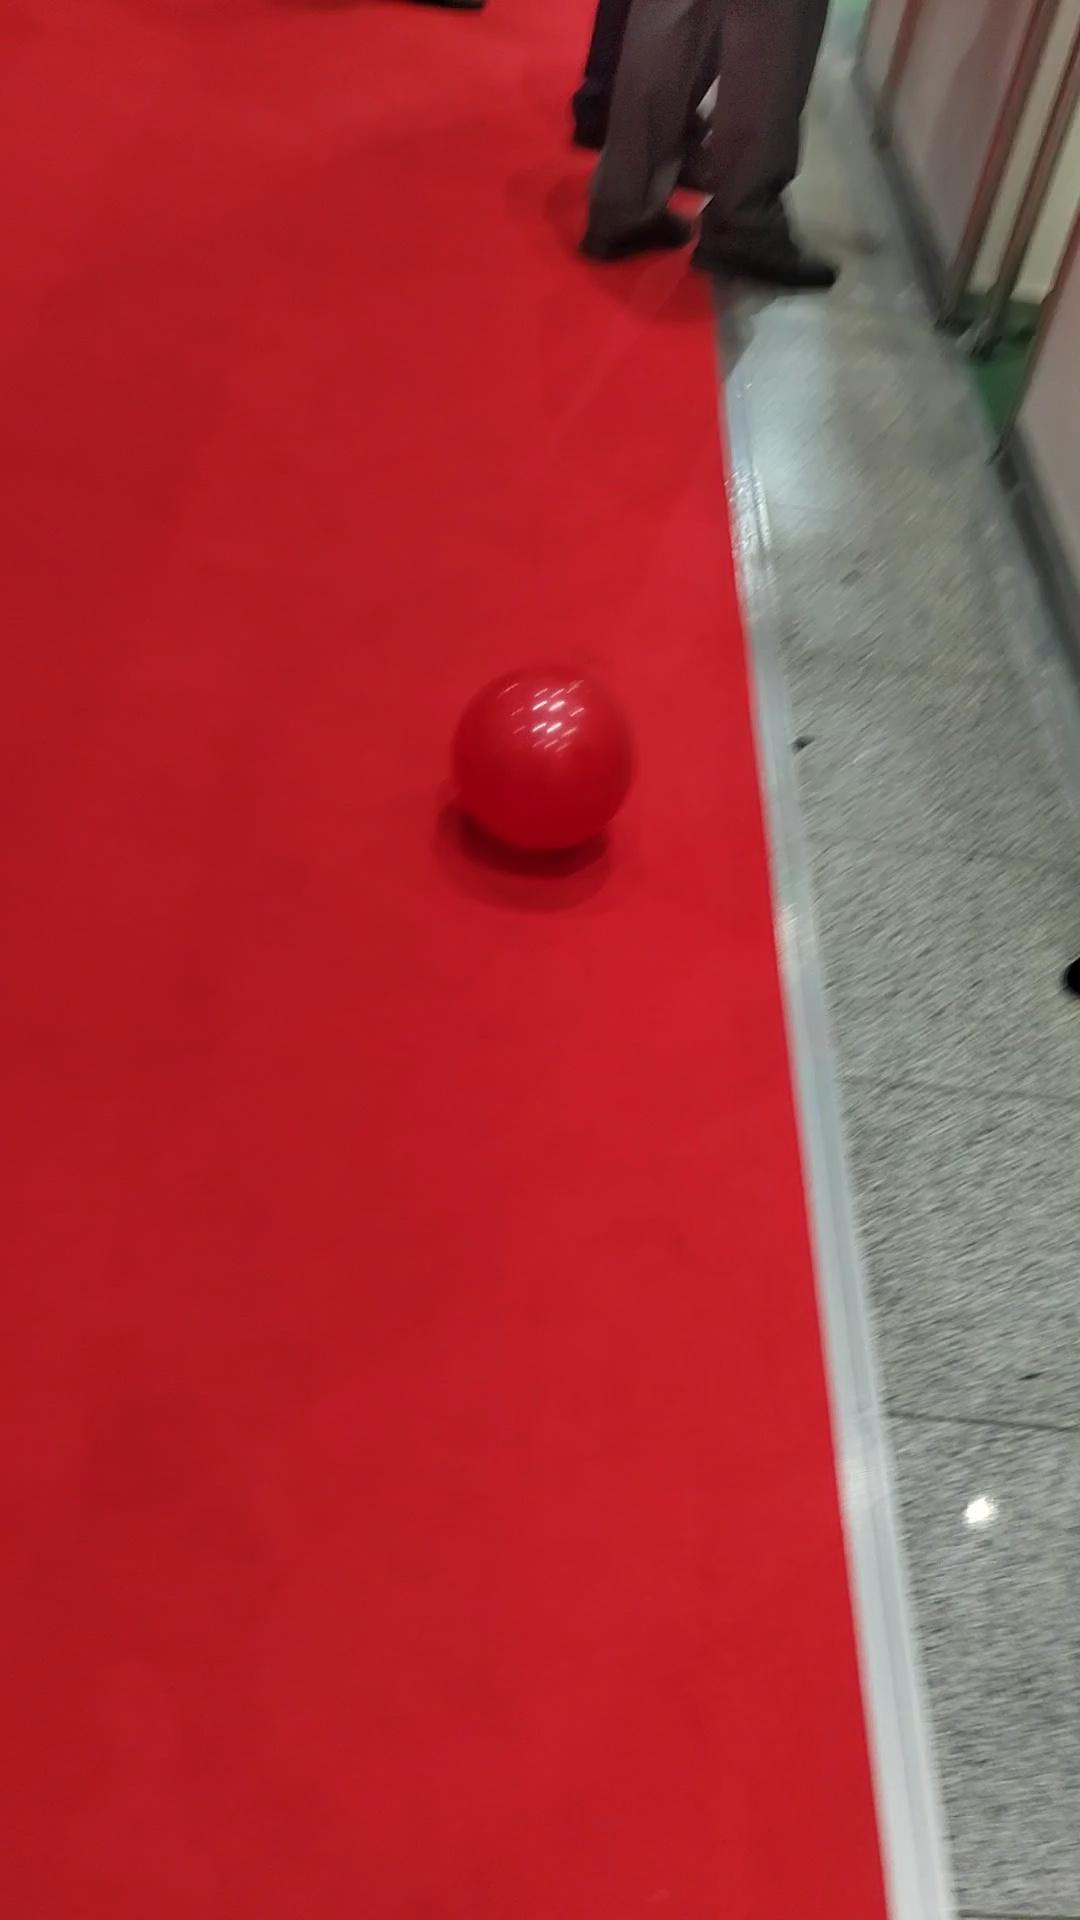red: (452, 667, 635, 854)
